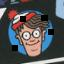waldo: (7, 10, 50, 57)
